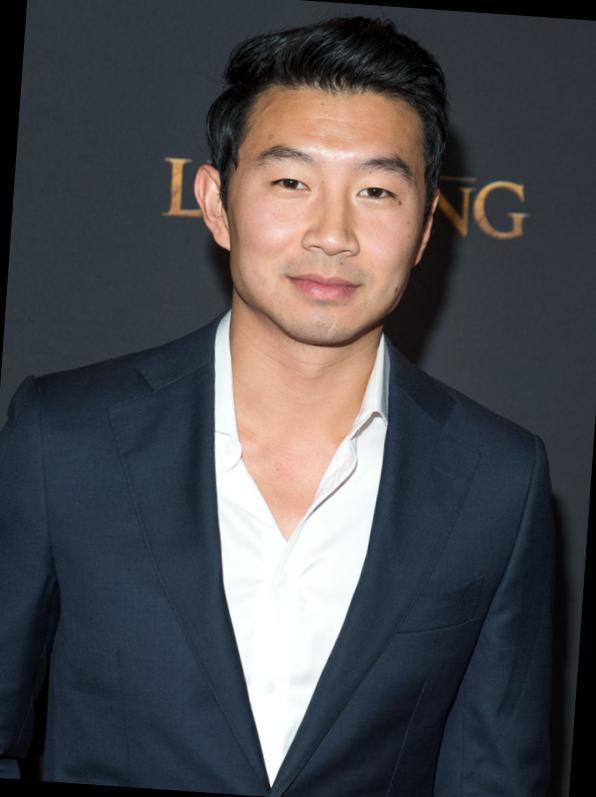Sober: (237, 92, 421, 323)
